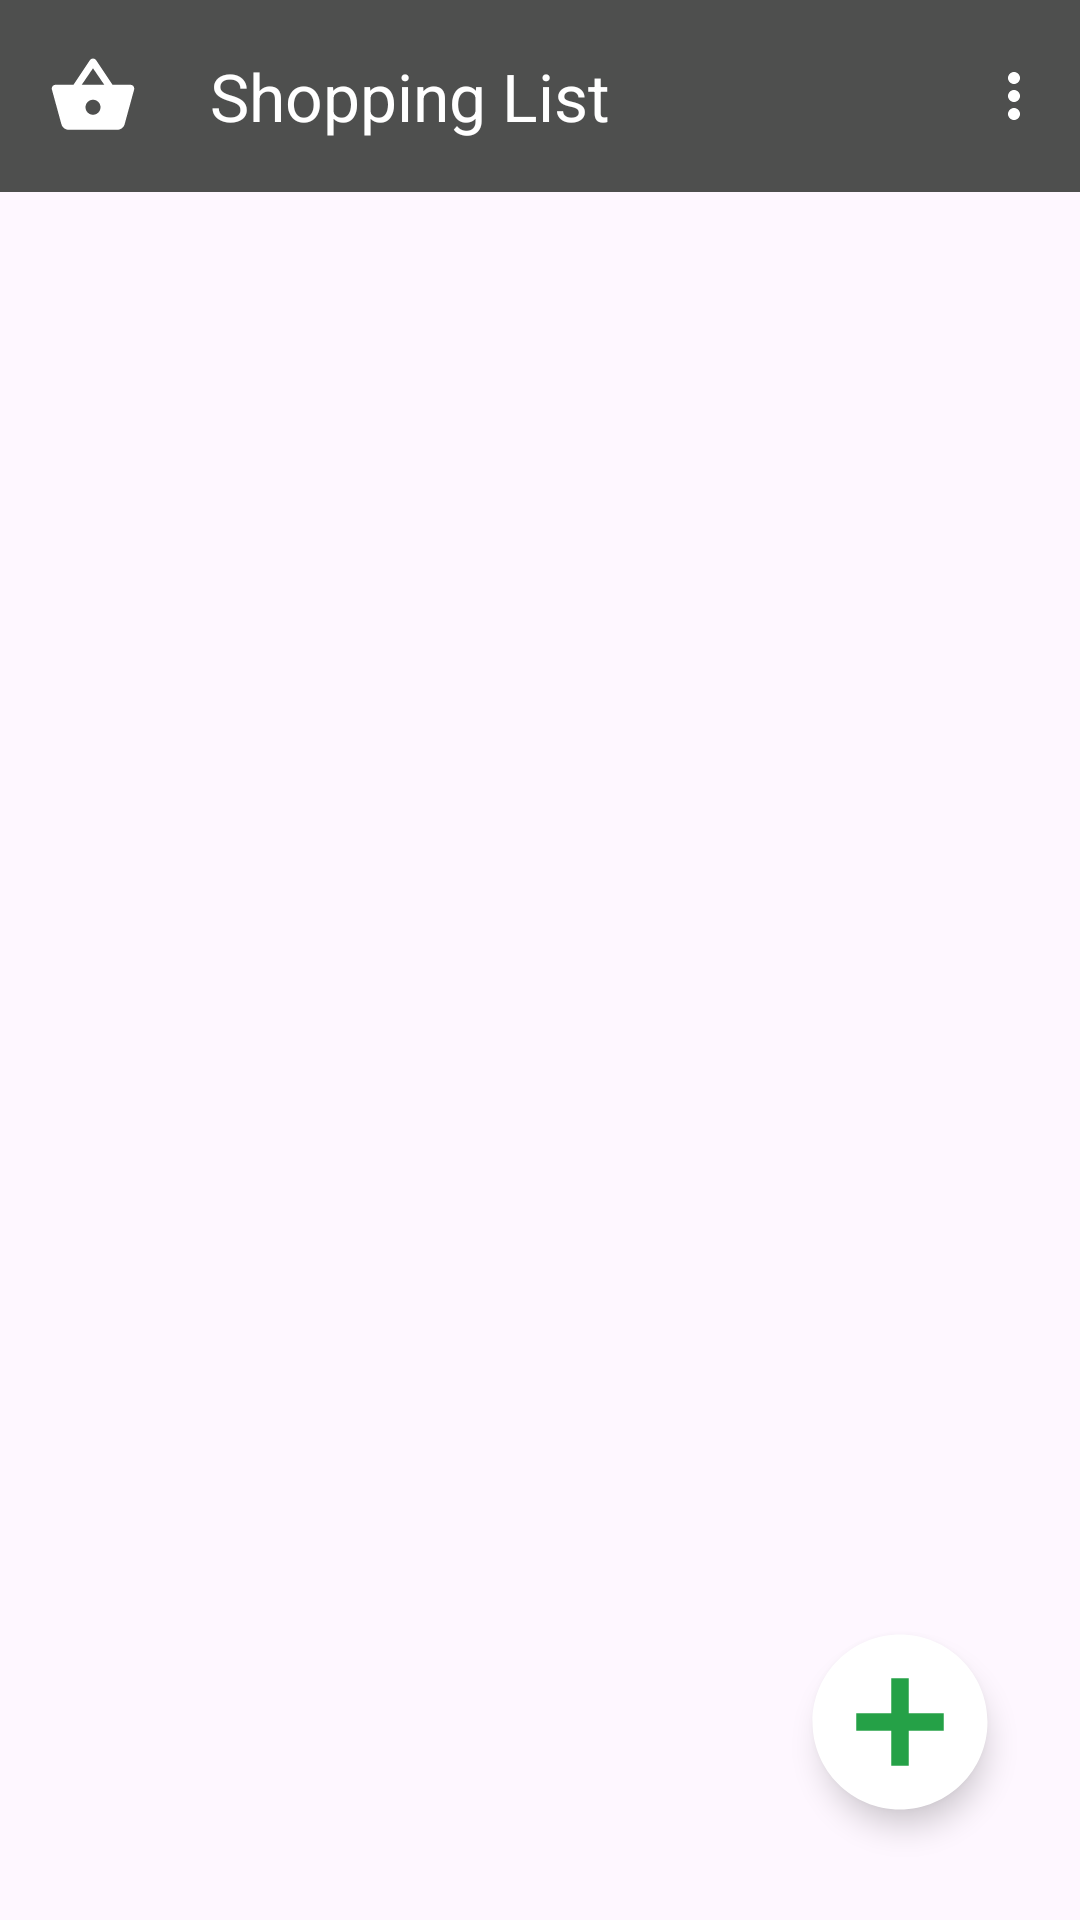

Icon bounding boxes for this 1080 × 1920 phone screenshot, format box(x1, y1, x2, y2):
add new elements: box(831, 1678, 986, 1823)
